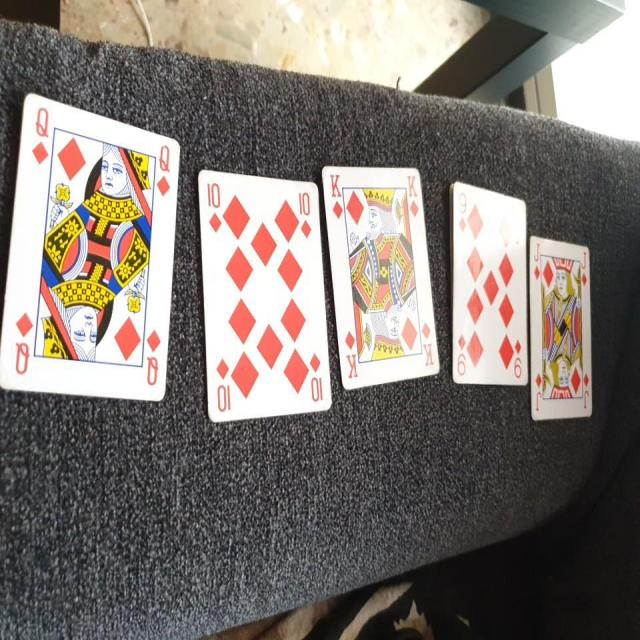10 Diamonds: (194, 165, 334, 422)
9 Diamonds: (448, 175, 530, 384)
J Diamonds: (530, 234, 594, 421)
K Diamonds: (320, 165, 442, 392)
Q Diamonds: (1, 89, 183, 404)
